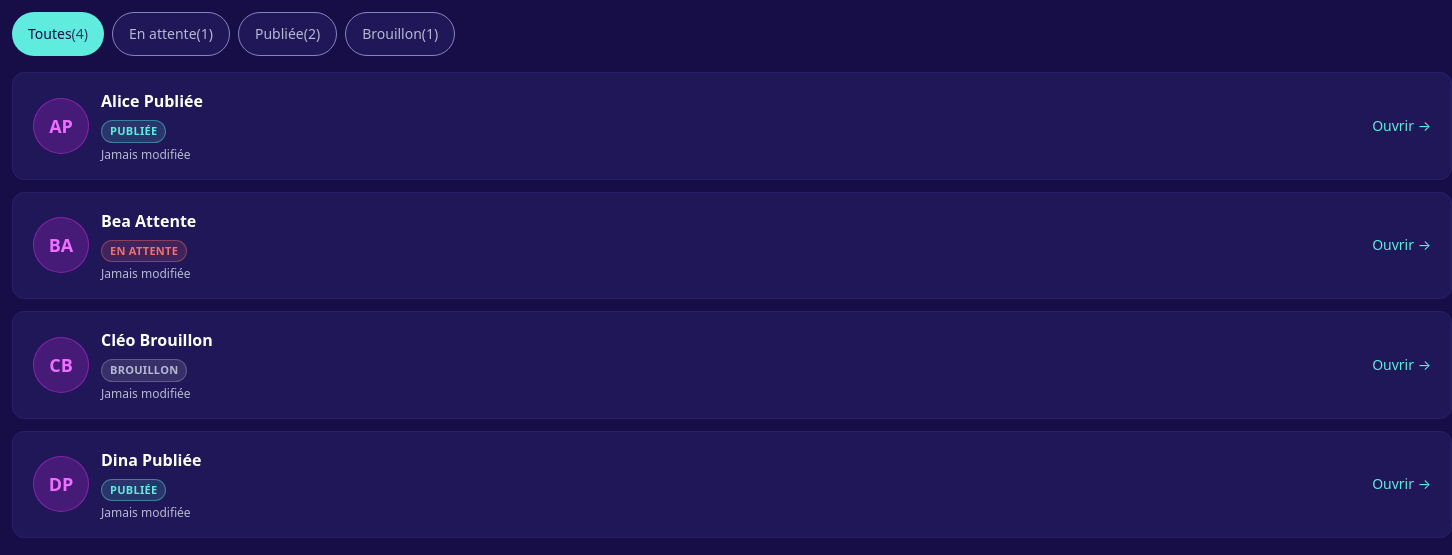
Scenario: RosterFilter — vues par statut (espace orga) › filtre sur les fiches publiées
This screenshot has width=1452, height=555.
Click the button "Publiée (2)".
click(288, 34)  # box [238,12,337,56]
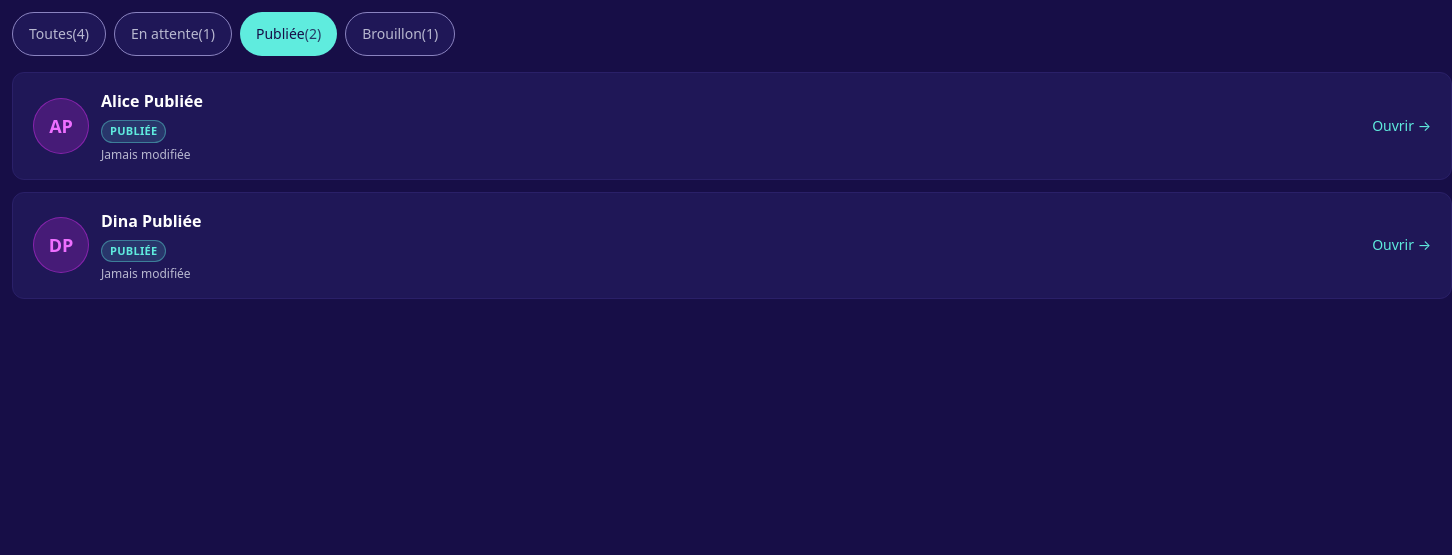
Expected: the text "Alice Publiée" is shown, [101,89,203,113]
Expected: the link "Bea Attente" is gone
Expected: the link "Cléo Brouillon" is gone
